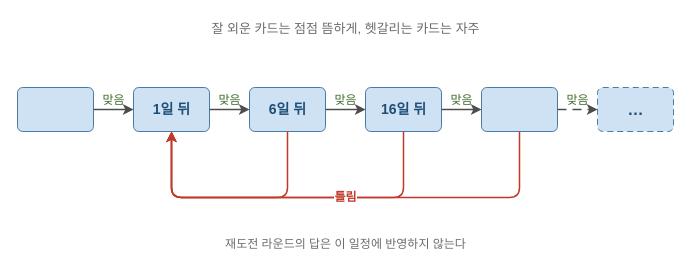
Image size: 691x272. Some labels were removed from this diagram. The centre of each missing label's shape, as x and y in pixels:
45일 뒤: the point at 519,109
새 카드: the point at 55,109
